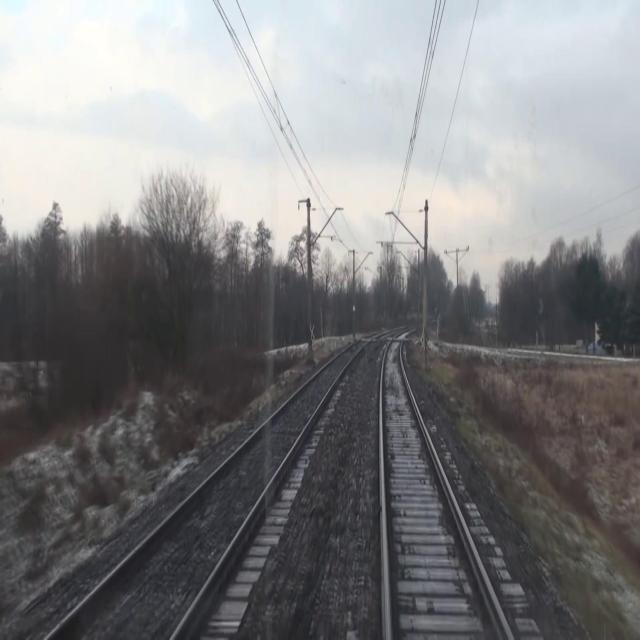rail-track: (49, 331, 382, 639), (383, 334, 508, 639)
